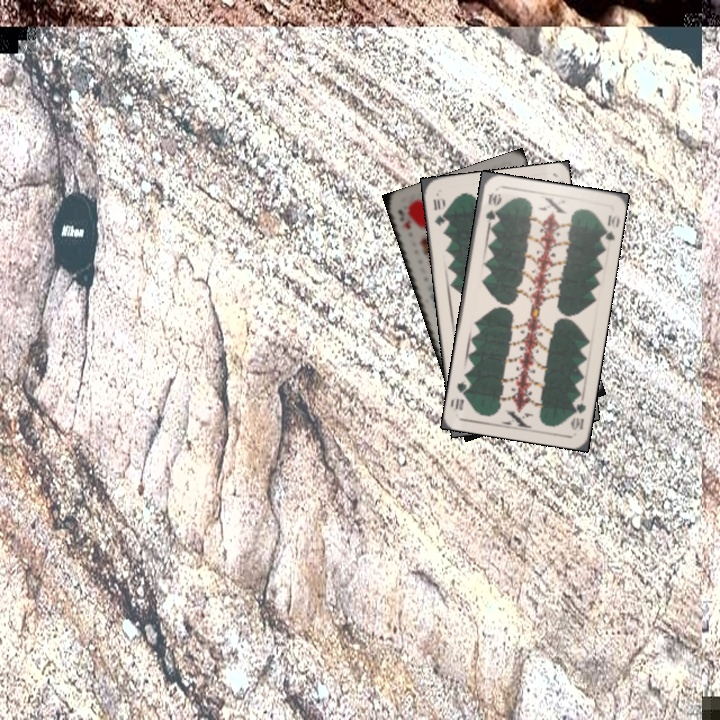G10: (567, 392, 589, 433), (482, 188, 502, 229), (429, 194, 449, 228)
HK: (394, 206, 414, 231)
